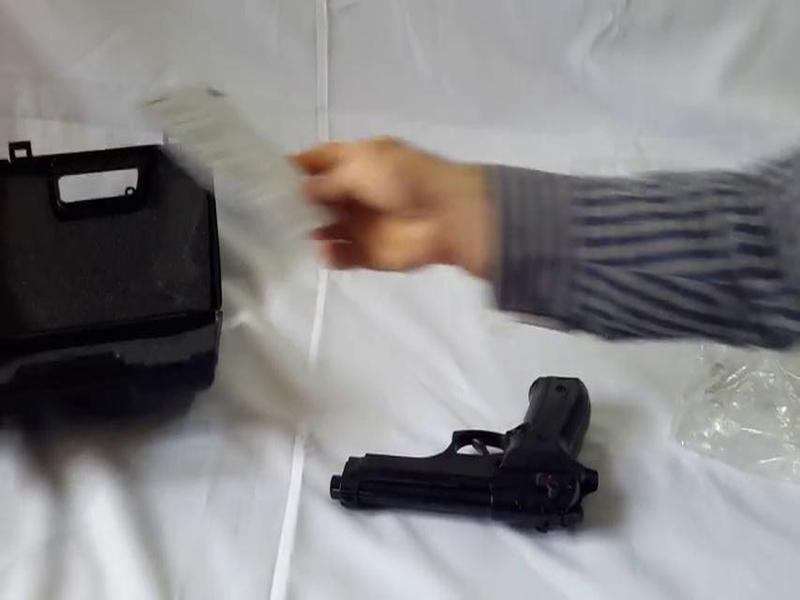Pistola: (329, 322, 647, 549)
